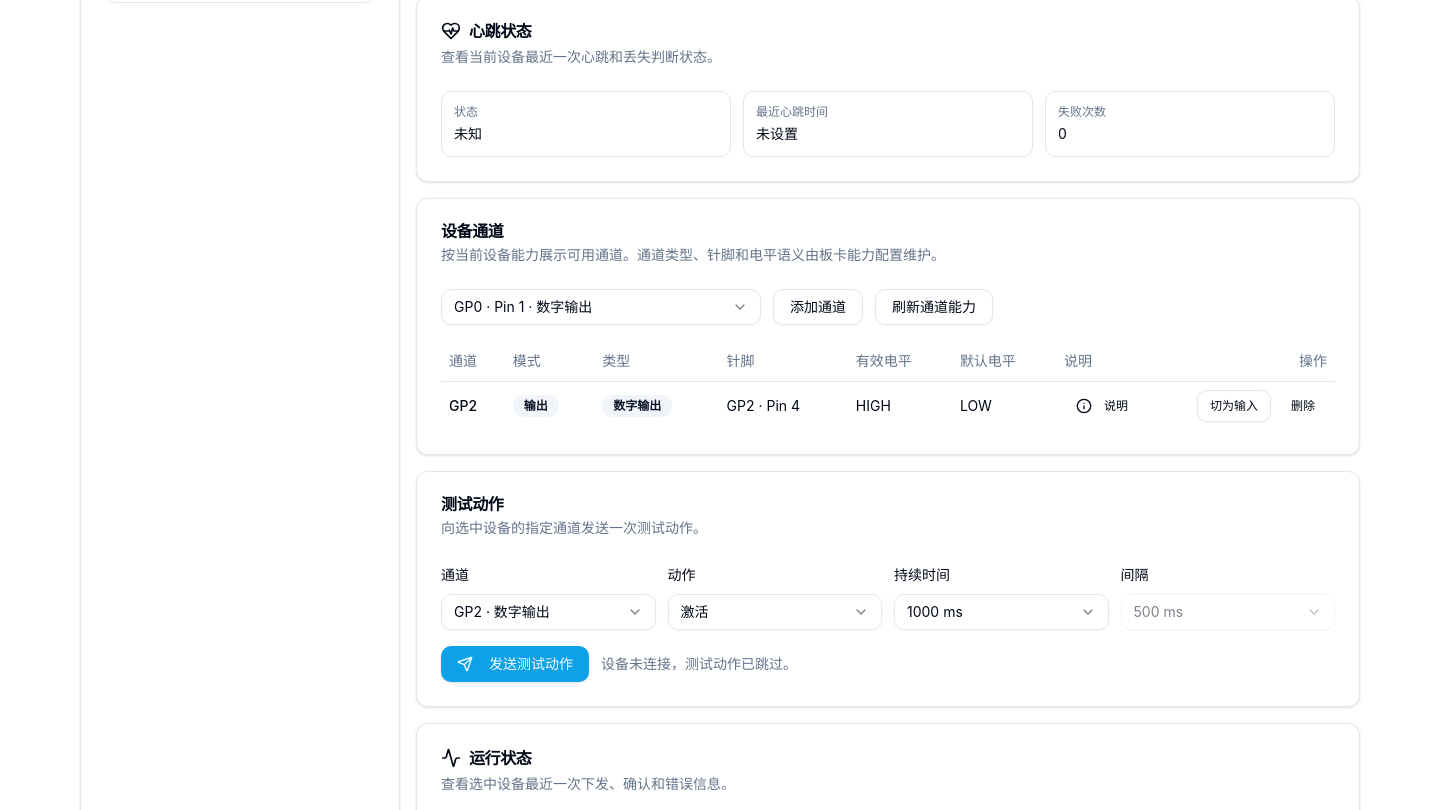
DevicesPage › opens hardware guide from a device channel
(page scrolled)
Click the button with aria-label "查看 GP2 连接说明".
click(1102, 406)  # box [1064,390,1140,422]
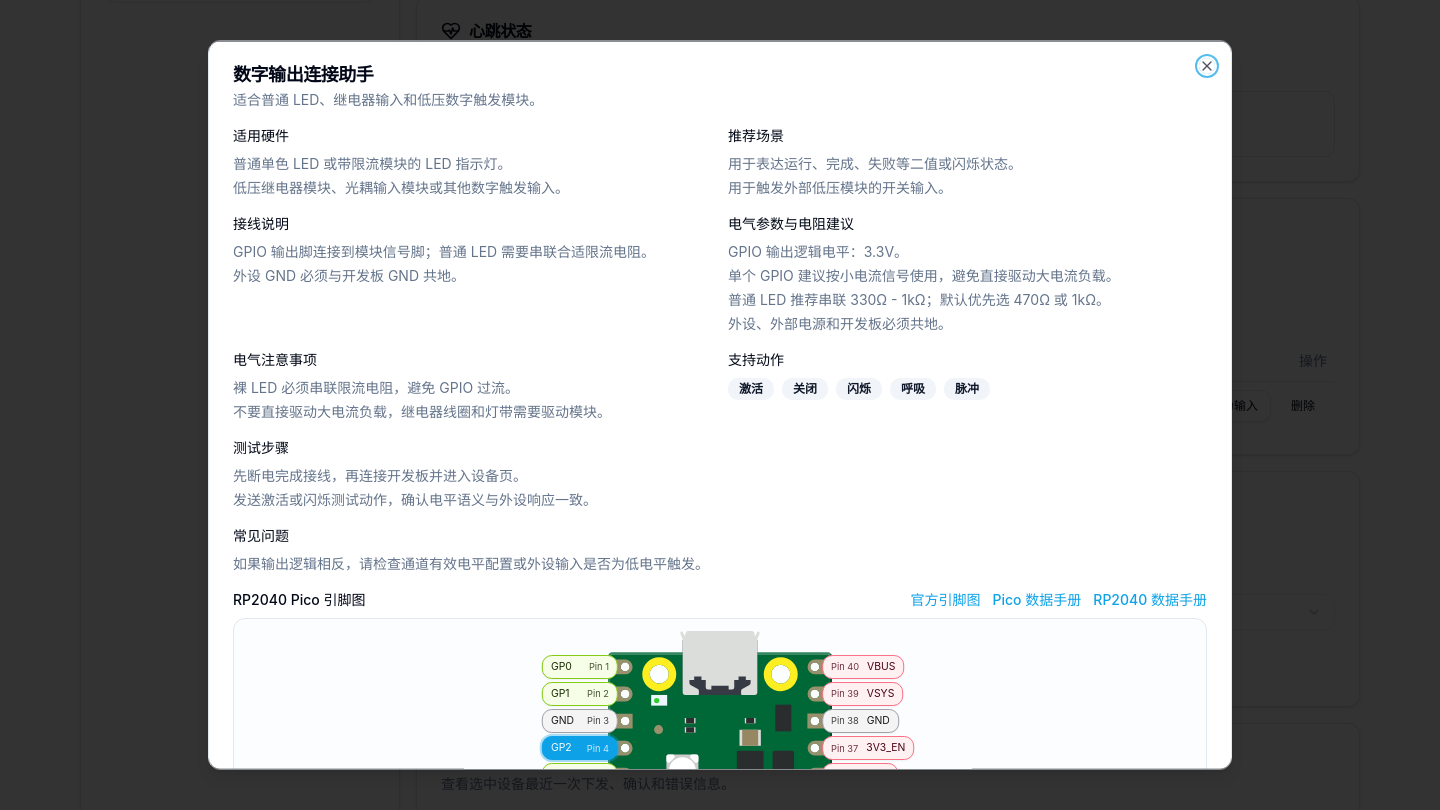
Check: the dialog "数字输出连接助手" is shown
Check: the text "适合普通 LED、继电器输入和低压数字触发模块。" is shown, box [233,90,543,108]
Check: the list item "GPIO 输出逻辑电平：3.3V。" is shown, box [728,242,908,260]
